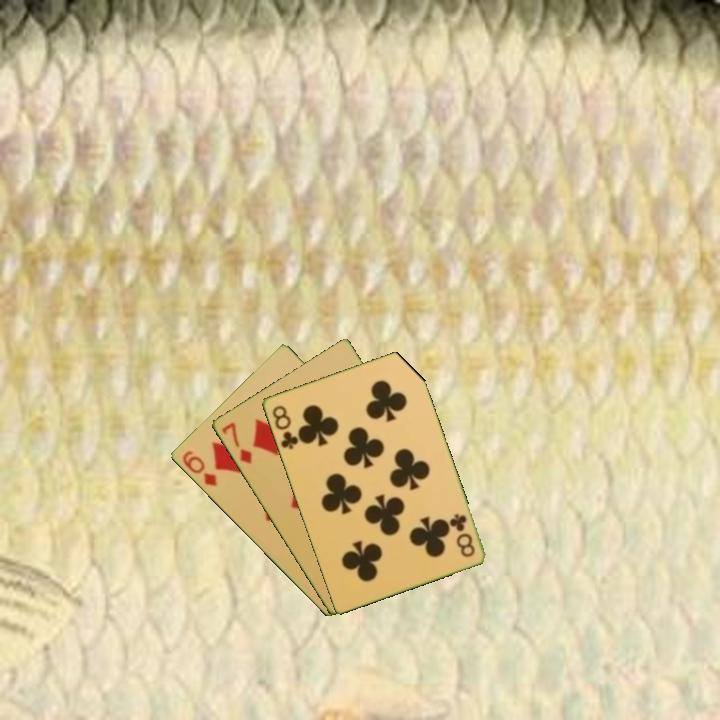6d: (178, 447, 220, 489)
7d: (218, 418, 255, 467)
8c: (268, 401, 301, 452), (446, 510, 478, 560)
